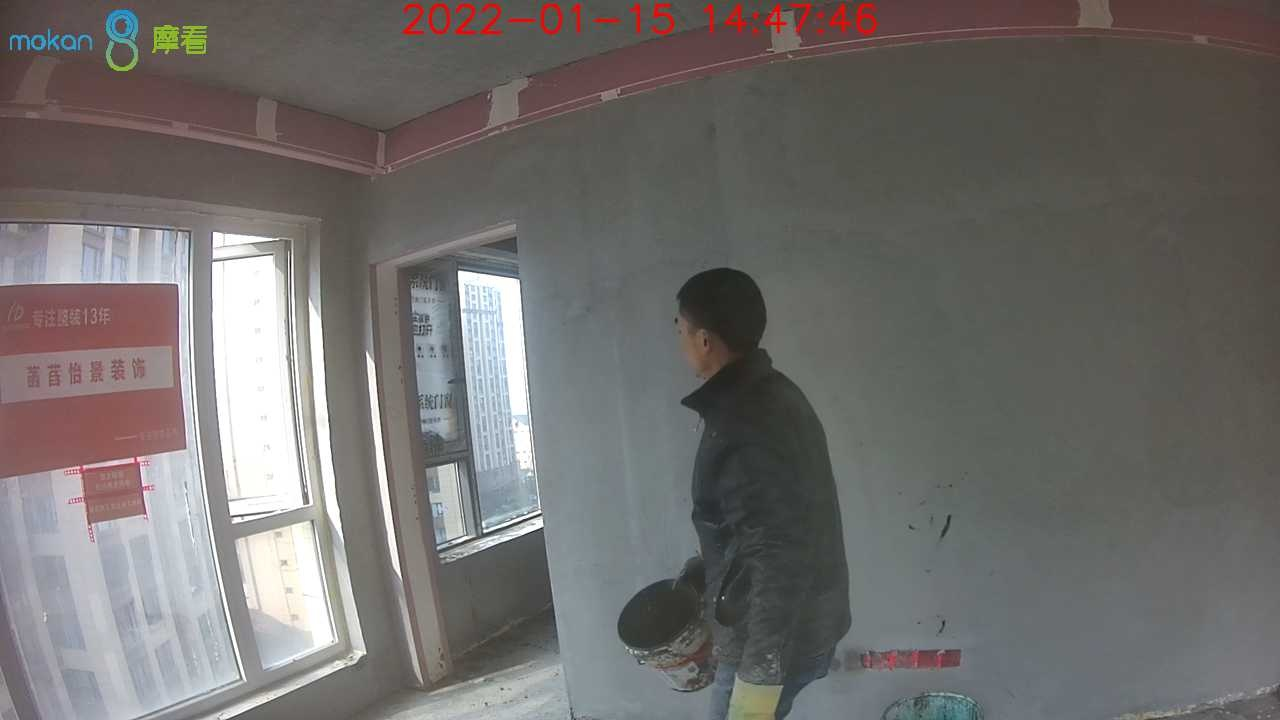people: (672, 263, 854, 720)
window: (1, 216, 348, 720)
